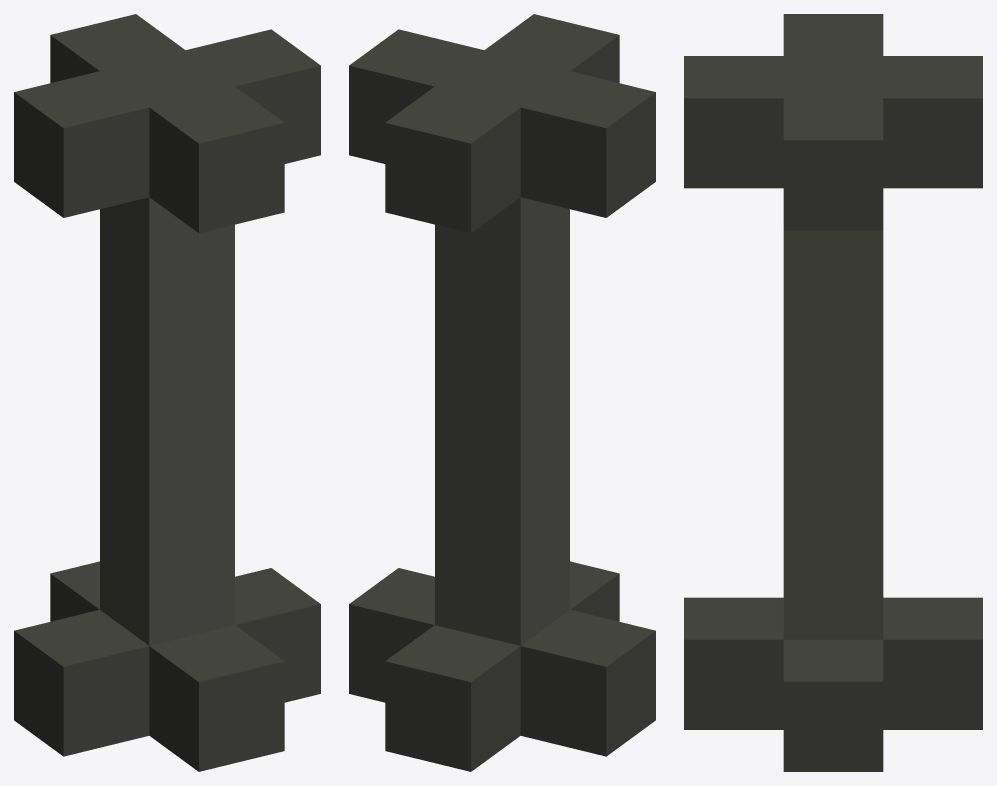
The model's file is church-37-candleholderbig.obj.
The picture shows the model from 3 angles, left to right: view 1: azimuth 30°, elevation 25°; view 2: azimuth 150°, elevation 25°; view 3: azimuth 270°, elevation 25°; orthographic projection.
Visible parts, largest first — view 1: candleholderbig; view 2: candleholderbig; view 3: candleholderbig.
Part boxes in pixels (bbox=[...]): candleholderbig: bbox=[14, 14, 320, 771]; candleholderbig: bbox=[349, 14, 655, 771]; candleholderbig: bbox=[684, 14, 982, 771].
Bounding box in the file's own units: 0.3 × 0.7 × 0.3.
Materials: 1 (1 with a texture image).
